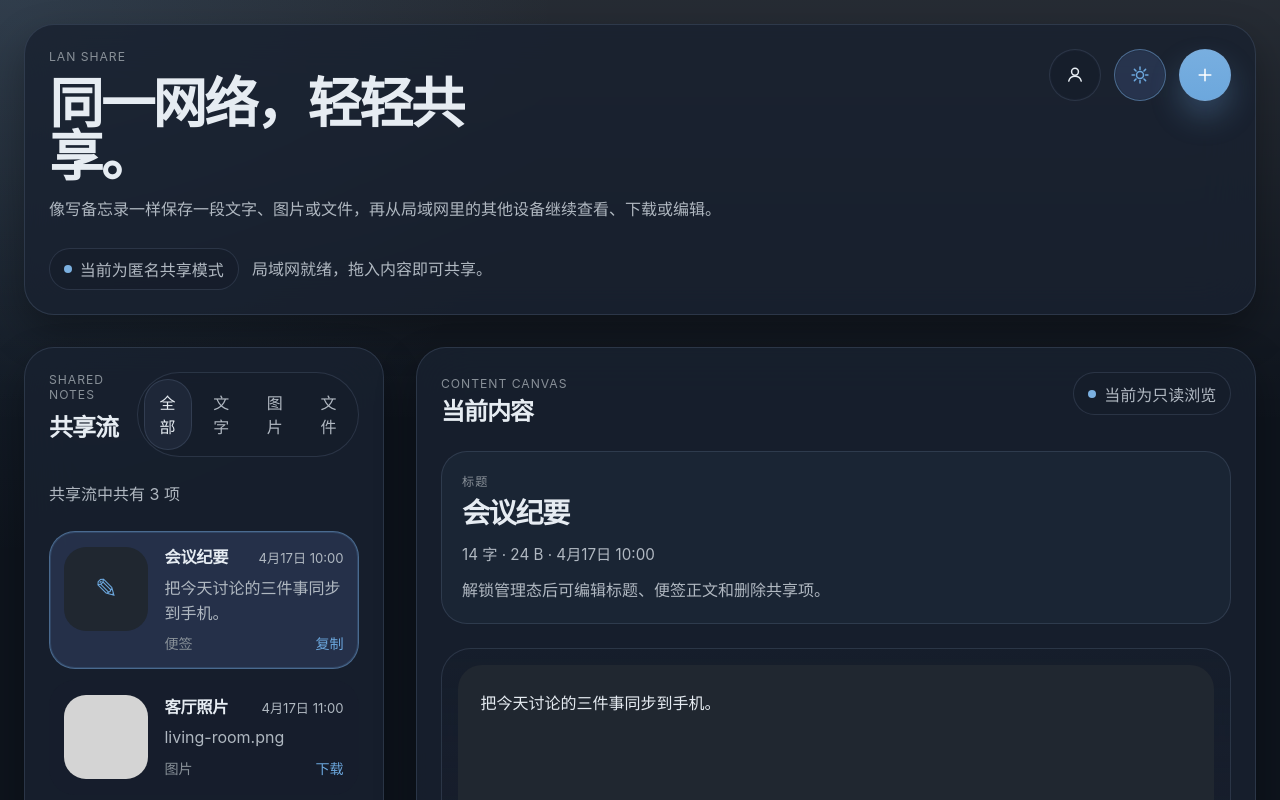
快捷新建弹窗可创建便签并自动关闭
Click the button named "打开快捷新建": x=1205, y=75 [1179,49,1231,101]
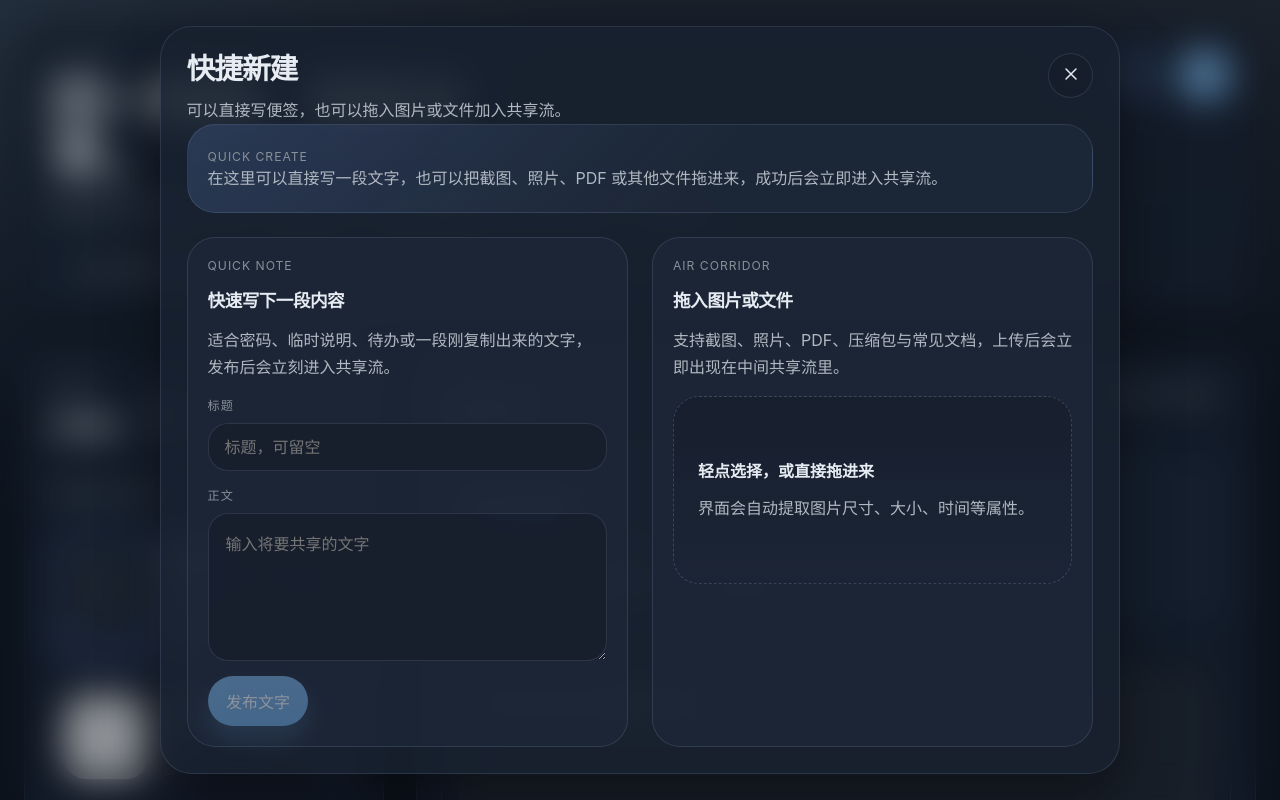
Expected: the dialog "快捷新建" is shown
In the field with placeholder "标题，可留空": x=407, y=447 [208,423,607,471], type "新的共享便签"
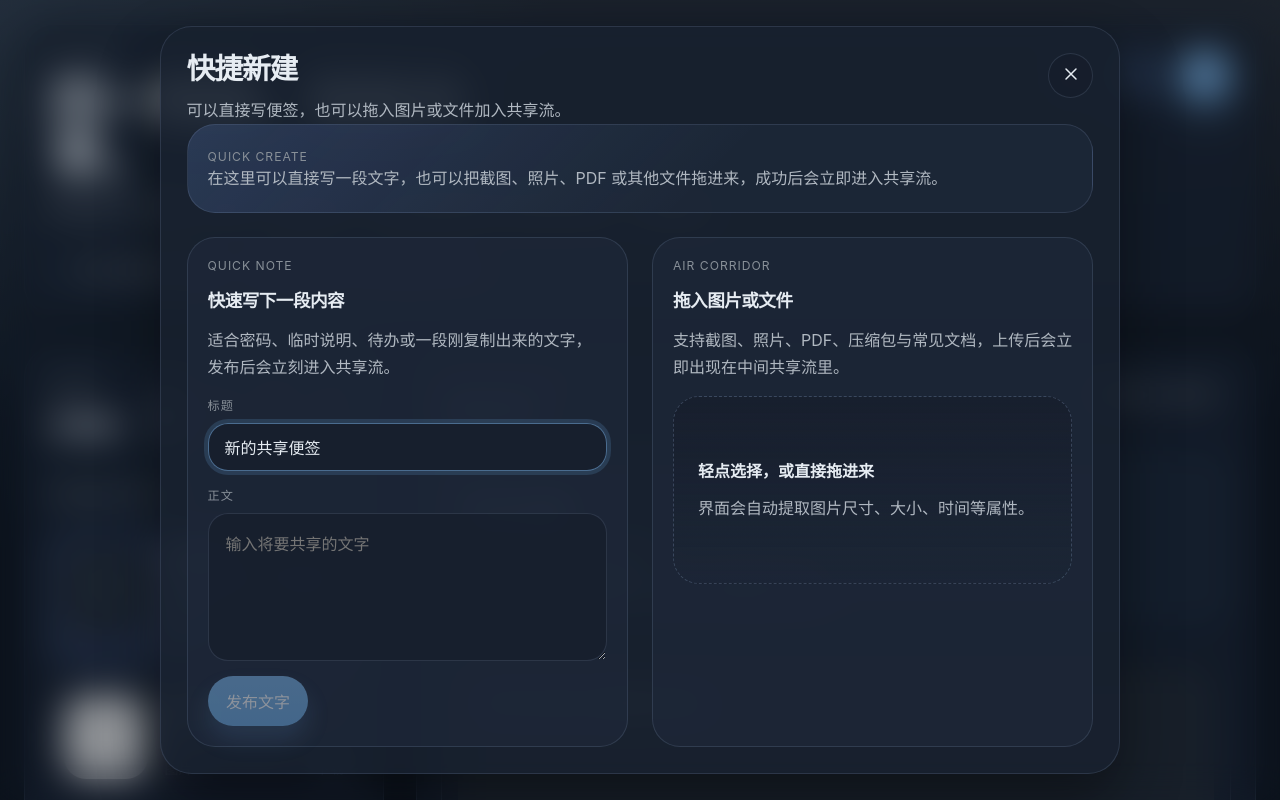
In the text box with placeholder "输入将要共享的文字": x=407, y=587 [208,513,607,661], type "刚刚复制的一段内容"
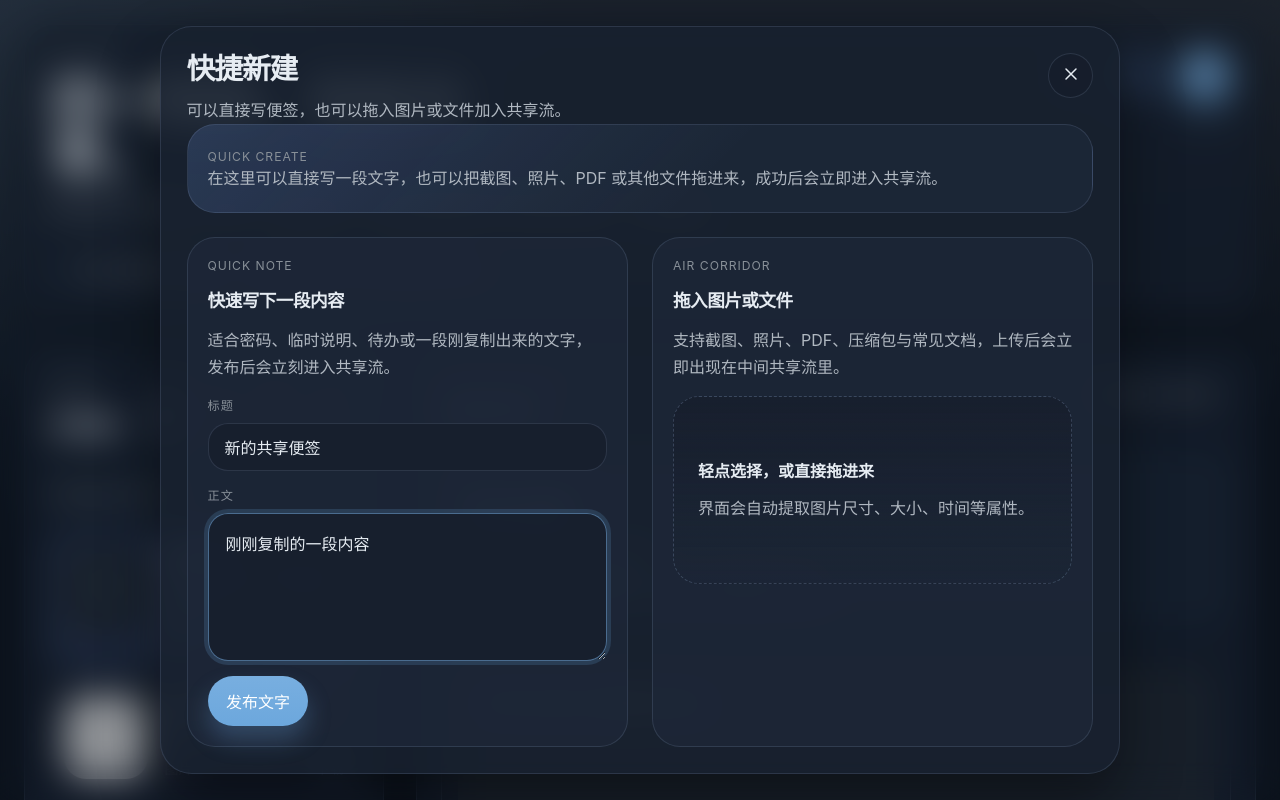
Click the button "发布文字": x=258, y=701 [208,676,308,726]
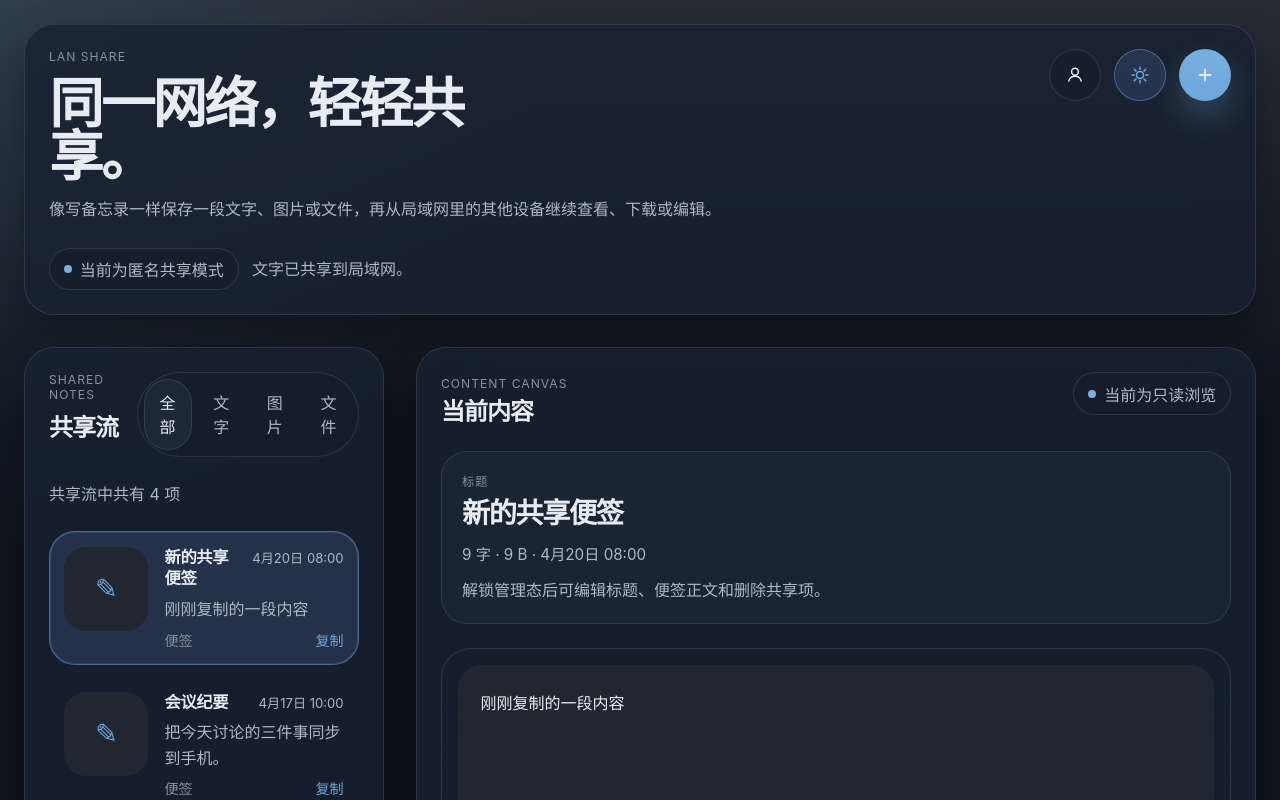
Expected: the heading "快捷新建" is gone
Expected: the button "新的共享便签" is shown, [49,532,359,665]
